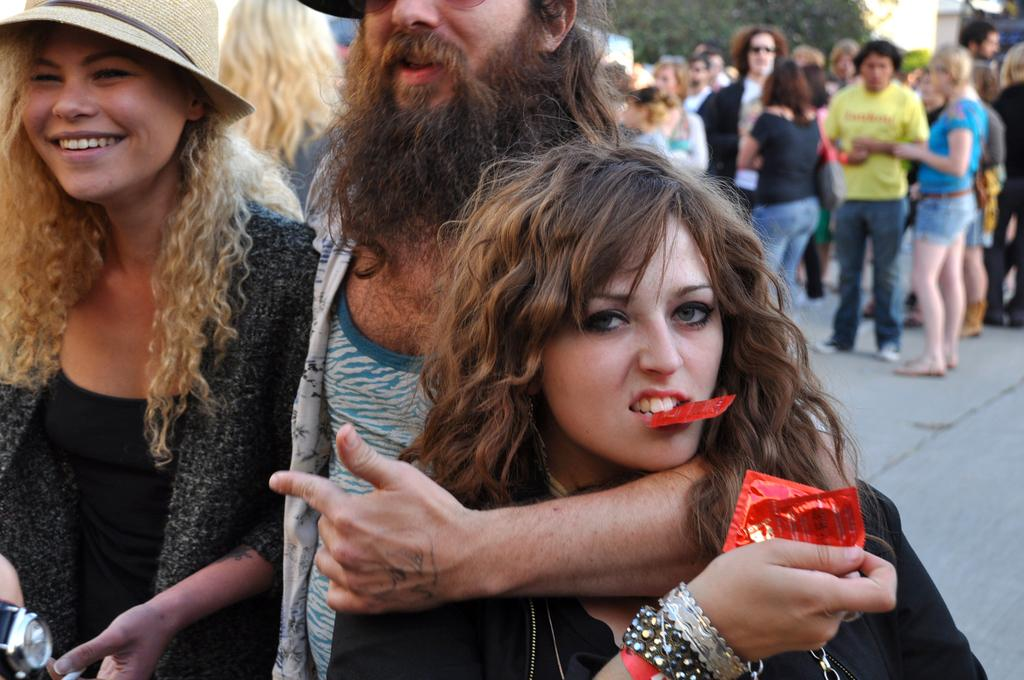Hat: (0, 2, 261, 151)
